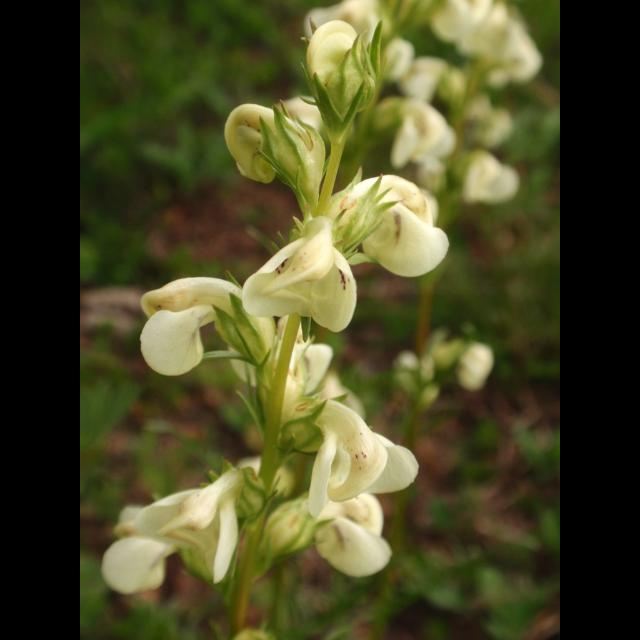Flower: (99, 1, 543, 596), (212, 87, 434, 336)
